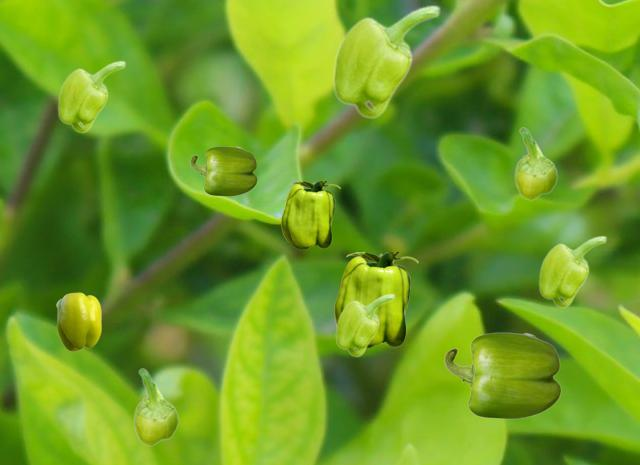bell_pepper: (332, 4, 440, 118), (444, 332, 560, 418), (334, 252, 417, 347), (538, 235, 606, 307), (57, 60, 125, 132), (281, 181, 339, 248), (335, 293, 394, 356), (133, 368, 178, 445), (190, 146, 256, 195), (514, 127, 557, 199), (56, 292, 100, 350)
